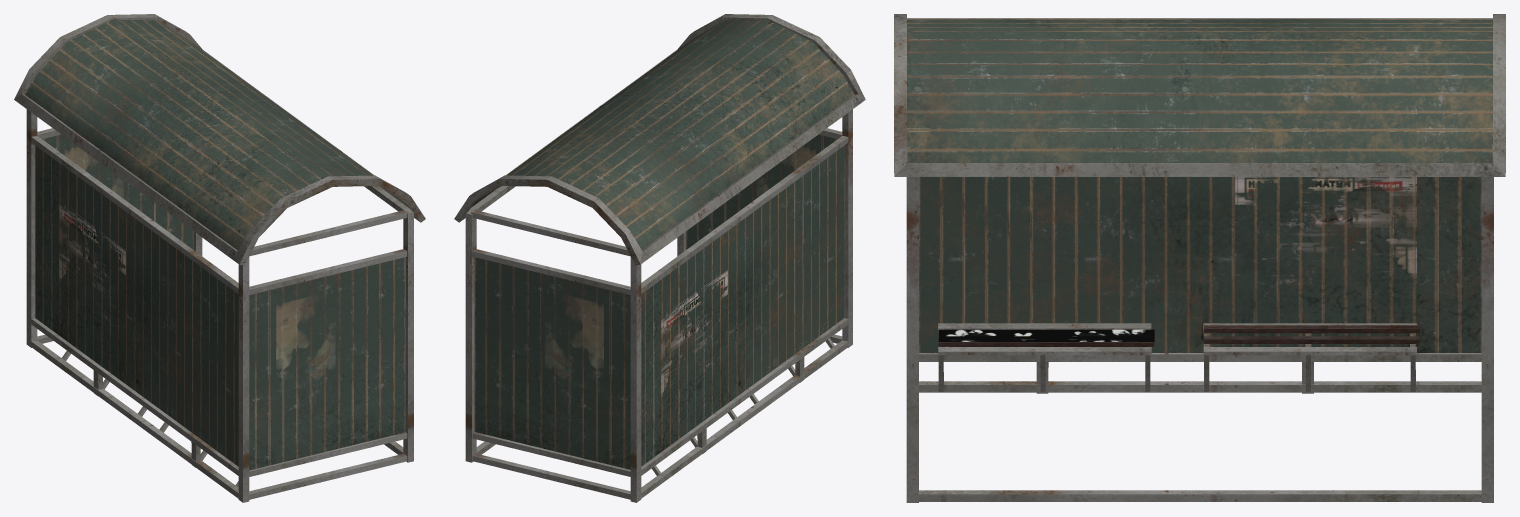
3 renders of one model, left to right at view 1: azimuth 30°, elevation 25°; view 2: azimuth 150°, elevation 25°; view 3: azimuth 270°, elevation 25°, orthographic. The views are drawn at different scales.
Visible parts, largest first — view 1: model_st1:polySurface33polySurface38; view 2: model_st1:polySurface33polySurface38; view 3: model_st1:polySurface33polySurface38, pPlane1.
Boxes of the visible parts, x1,y1,x2,y2 form: model_st1:polySurface33polySurface38: (14,14,425,502); model_st1:polySurface33polySurface38: (454,14,865,502); model_st1:polySurface33polySurface38: (894,14,1505,502); pPlane1: (938,329,1154,341).
Bounding box in the file's own units: 14.61 × 22.88 × 30.54.
Materials: 2 (2 with a texture image).
